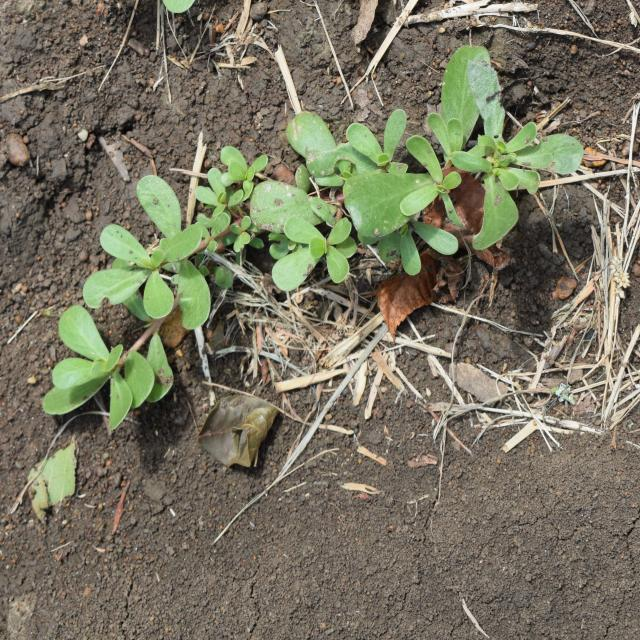Purslane: (43, 44, 584, 430)
